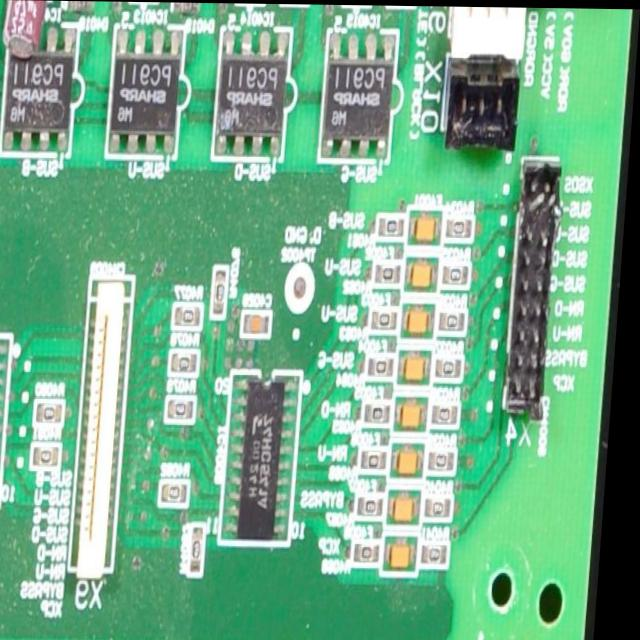IC: (226, 373, 310, 537), (107, 19, 193, 160), (0, 19, 82, 152), (215, 25, 297, 158), (326, 26, 405, 153), (0, 325, 20, 516)
capacitor: (7, 0, 56, 45), (392, 526, 427, 575), (395, 481, 431, 526), (403, 301, 442, 339), (400, 392, 436, 432), (394, 438, 435, 473), (411, 204, 449, 240), (408, 250, 442, 290), (404, 347, 436, 386), (246, 303, 280, 335), (234, 3, 262, 10), (128, 1, 161, 3)
resistor: (439, 248, 476, 293), (377, 204, 412, 244), (425, 531, 458, 573), (431, 438, 462, 480), (355, 533, 391, 569), (440, 301, 474, 339), (446, 205, 483, 239), (213, 266, 237, 318), (164, 474, 199, 509), (193, 525, 217, 575), (35, 441, 68, 477), (436, 392, 470, 426), (430, 488, 464, 522), (173, 298, 208, 330), (362, 484, 393, 519), (361, 439, 394, 471), (369, 261, 408, 287), (372, 340, 398, 379), (440, 350, 471, 382), (37, 394, 71, 423), (376, 296, 405, 328), (168, 395, 203, 421), (366, 396, 397, 425), (175, 343, 205, 371), (390, 5, 420, 6)
